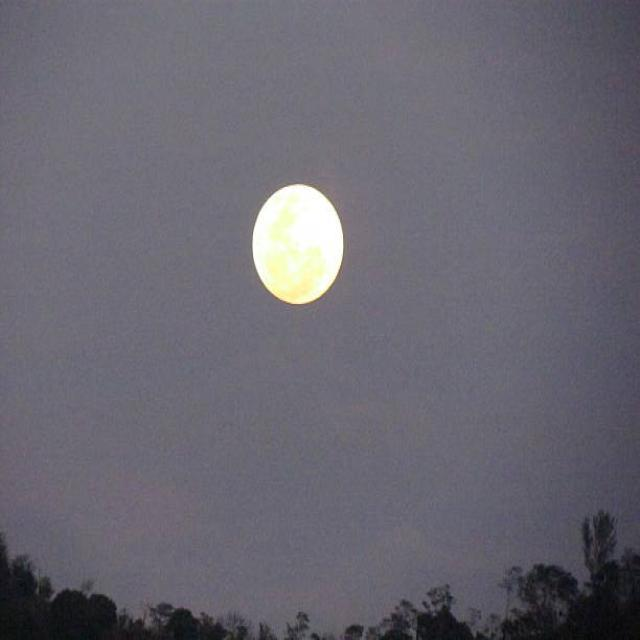moon: (250, 184, 342, 304)
